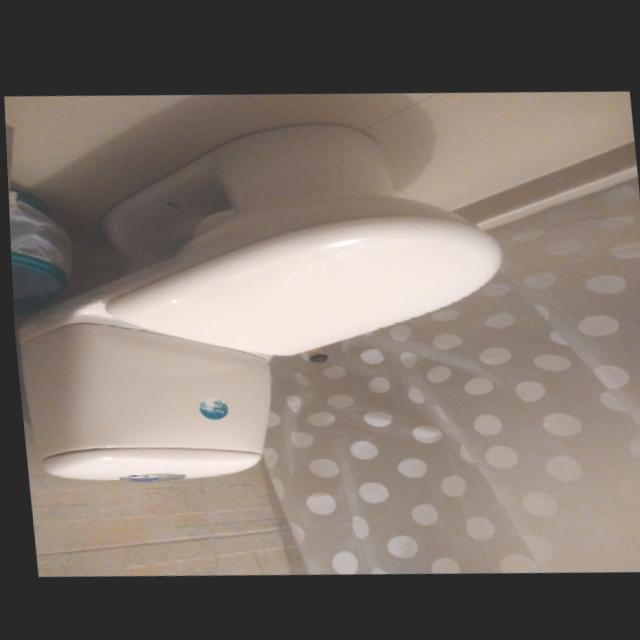toilet: (4, 101, 522, 502)
